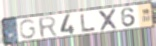4: (60, 13, 78, 35)
6: (121, 7, 137, 27)
G: (18, 18, 38, 40)
L: (80, 12, 97, 33)
R: (37, 15, 58, 39)
X: (97, 8, 119, 32)
